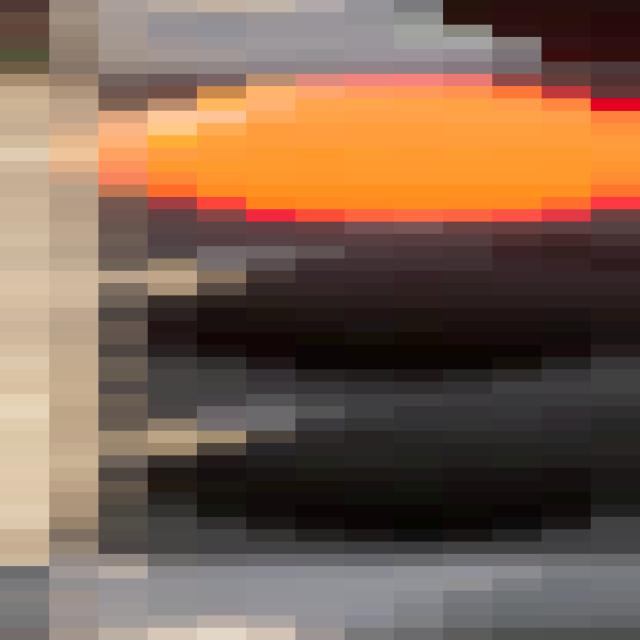red_light: (0, 61, 640, 546)
